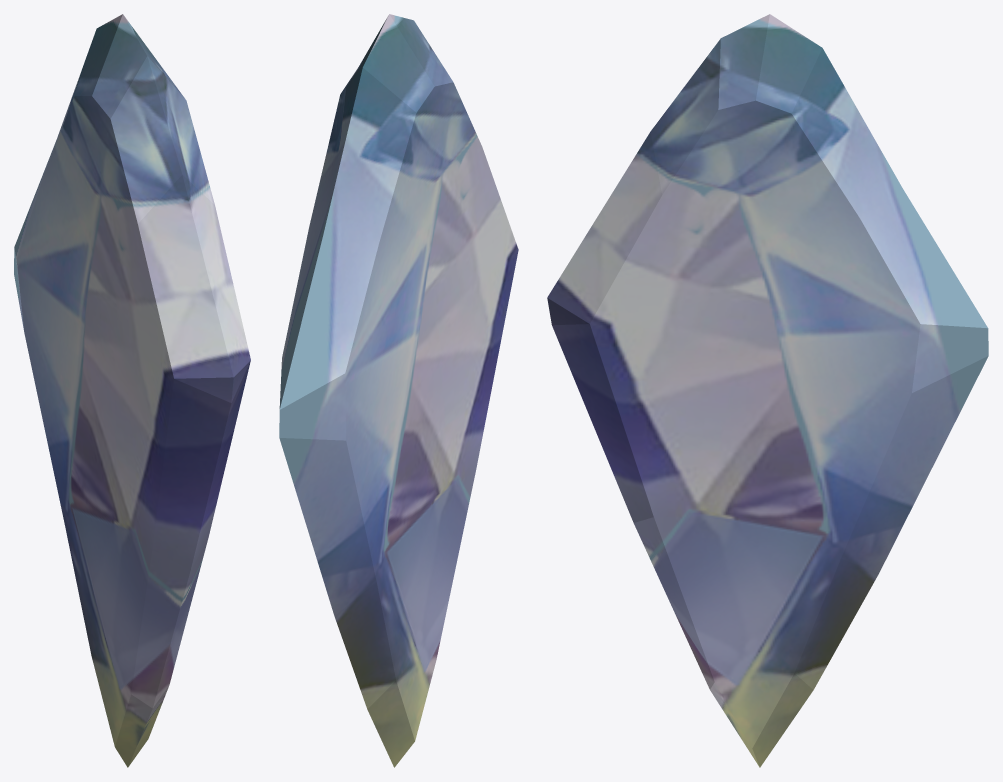
Rendered from Skill 2 Mirror 1.glb.
The picture shows the model from 3 angles, left to right: view 1: azimuth 30°, elevation 25°; view 2: azimuth 150°, elevation 25°; view 3: azimuth 270°, elevation 25°; orthographic projection.
Parts seen in each view (by area): view 1: cyrene_00_skill02_mirror01_LOD0; view 2: cyrene_00_skill02_mirror01_LOD0; view 3: cyrene_00_skill02_mirror01_LOD0.
Boxes of the visible parts, bbox=[...] form: cyrene_00_skill02_mirror01_LOD0: bbox=[14, 14, 250, 767]; cyrene_00_skill02_mirror01_LOD0: bbox=[279, 14, 518, 767]; cyrene_00_skill02_mirror01_LOD0: bbox=[547, 14, 988, 767].
Bounding box in the file's own units: 0.1352 × 1.26 × 0.6662.
Materials: 1 (1 with a texture image).
